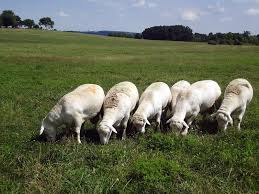sheep: (42, 79, 99, 147), (130, 79, 181, 137), (176, 79, 219, 133), (102, 81, 139, 140), (219, 76, 252, 136), (166, 77, 195, 125)
